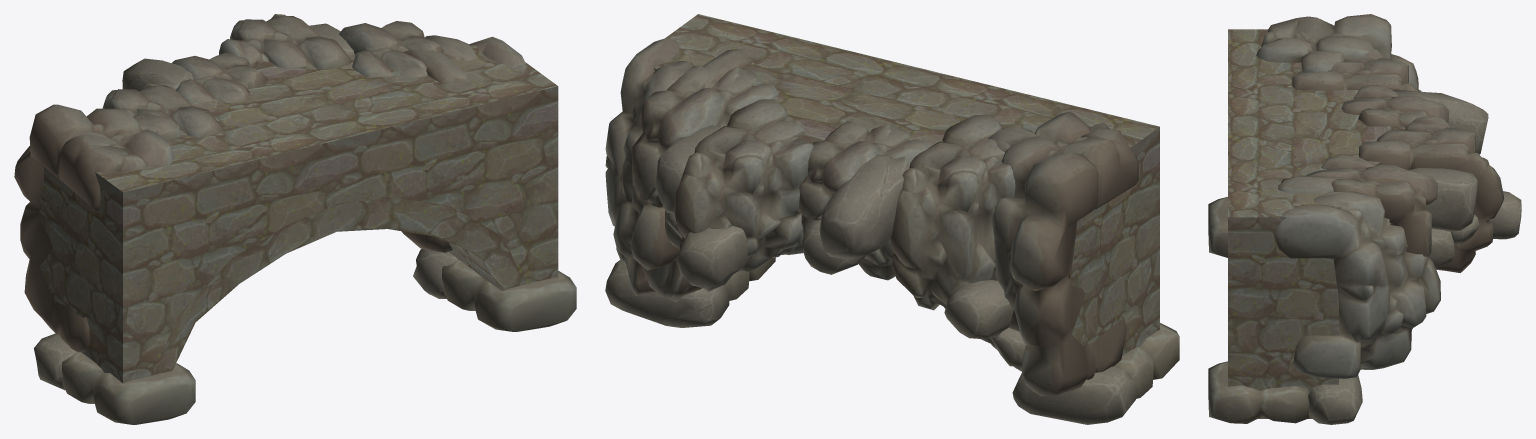
File: SM_FW01_Ruins_Int_Ceiling_B_4x4_Brkn_02.fbx
The picture shows the model from 3 angles, left to right: view 1: azimuth 30°, elevation 25°; view 2: azimuth 150°, elevation 25°; view 3: azimuth 270°, elevation 25°; orthographic projection. The views are drawn at different scales.
Parts seen in each view (by area): view 1: SM_FW01_Ruins_Int_Ceiling_B_4x4_Brkn_02, SM_FW01_Ruins_Int_Ceiling_B_4x4_Brkn_02_LOD0; view 2: SM_FW01_Ruins_Int_Ceiling_B_4x4_Brkn_02_LOD0, SM_FW01_Ruins_Int_Ceiling_B_4x4_Brkn_02; view 3: SM_FW01_Ruins_Int_Ceiling_B_4x4_Brkn_02_LOD0, SM_FW01_Ruins_Int_Ceiling_B_4x4_Brkn_02.
Part boxes in pixels (x1,y1,x2,y2): SM_FW01_Ruins_Int_Ceiling_B_4x4_Brkn_02: [38, 45, 558, 383]; SM_FW01_Ruins_Int_Ceiling_B_4x4_Brkn_02_LOD0: [14, 14, 576, 424]; SM_FW01_Ruins_Int_Ceiling_B_4x4_Brkn_02_LOD0: [605, 37, 1179, 424]; SM_FW01_Ruins_Int_Ceiling_B_4x4_Brkn_02: [653, 14, 1159, 379]; SM_FW01_Ruins_Int_Ceiling_B_4x4_Brkn_02_LOD0: [1208, 14, 1521, 424]; SM_FW01_Ruins_Int_Ceiling_B_4x4_Brkn_02: [1228, 29, 1405, 418].
Size of what is drawn, in the model's own units: 4.42 by 2.25 by 2.82.
